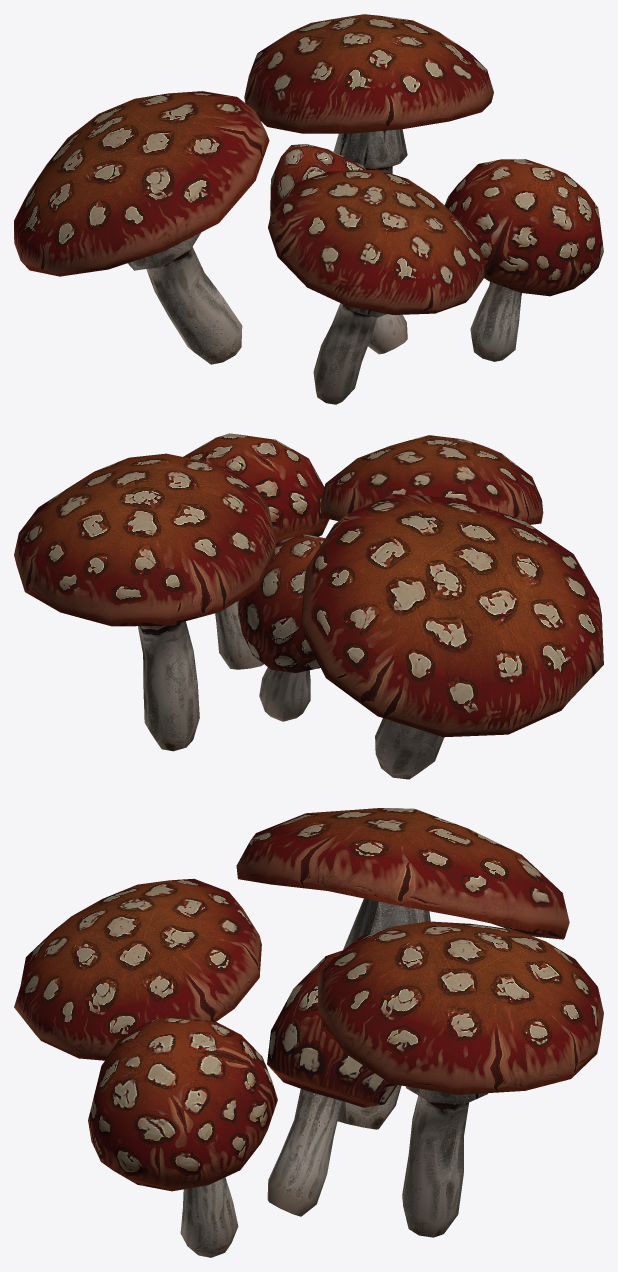
Rendered from mushroom_1_group_4.fbx.
3 views of the same model, one above another, from view 1: azimuth 30°, elevation 25°; view 2: azimuth 150°, elevation 25°; view 3: azimuth 270°, elevation 25° (orthographic). The views are drawn at different scales.
Visible parts, largest first — view 1: Mushroom_1_Group_4; view 2: Mushroom_1_Group_4; view 3: Mushroom_1_Group_4.
Part boxes in pixels (box(x1,y1,x2,y2)): Mushroom_1_Group_4: box(14, 14, 603, 404); Mushroom_1_Group_4: box(14, 433, 603, 779); Mushroom_1_Group_4: box(14, 808, 603, 1257).
Size of the model in its own units: 1.55 by 0.8139 by 1.41.
